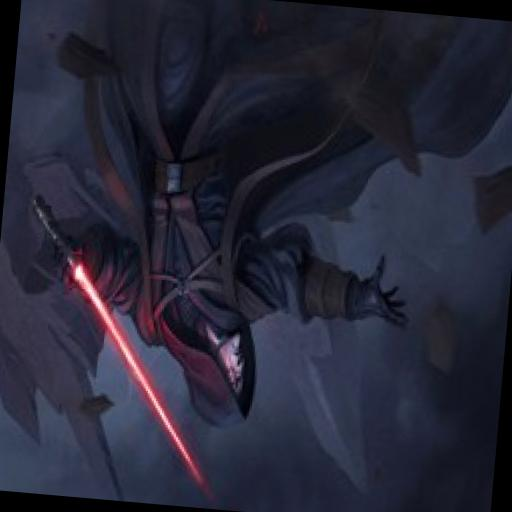sith saber: (10, 198, 227, 484)
